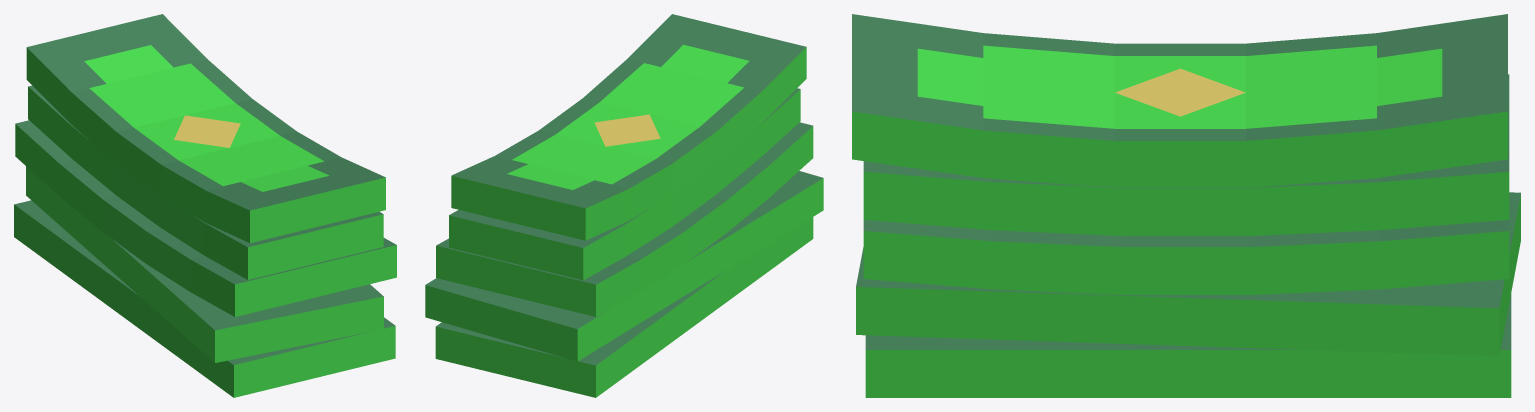
File: money.fbx
The picture shows the model from 3 angles, left to right: view 1: azimuth 30°, elevation 25°; view 2: azimuth 150°, elevation 25°; view 3: azimuth 270°, elevation 25°; orthographic projection. The views are drawn at different scales.
Parts seen in each view (by area): view 1: Cube.017, Cube.015, Cube.014, Cube.012, Cube.016; view 2: Cube.017, Cube.014, Cube.015, Cube.012, Cube.016; view 3: Cube.017, Cube.015, Cube.014, Cube.012, Cube.016.
Part boxes in pixels (bbox=[...]): Cube.017: bbox=[26, 14, 385, 243]; Cube.015: bbox=[15, 120, 396, 316]; Cube.014: bbox=[26, 166, 383, 362]; Cube.012: bbox=[14, 200, 395, 397]; Cube.016: bbox=[28, 85, 383, 279]; Cube.017: bbox=[451, 14, 806, 240]; Cube.014: bbox=[425, 171, 823, 361]; Cube.015: bbox=[436, 122, 813, 316]; Cube.012: bbox=[435, 217, 813, 397]; Cube.016: bbox=[449, 88, 800, 280]; Cube.017: bbox=[852, 14, 1507, 187]; Cube.015: bbox=[863, 220, 1509, 294]; Cube.014: bbox=[856, 192, 1520, 356]; Cube.012: bbox=[865, 293, 1511, 397]; Cube.016: bbox=[863, 74, 1509, 235].
Size of the model in its own units: 185 by 173 by 381.
